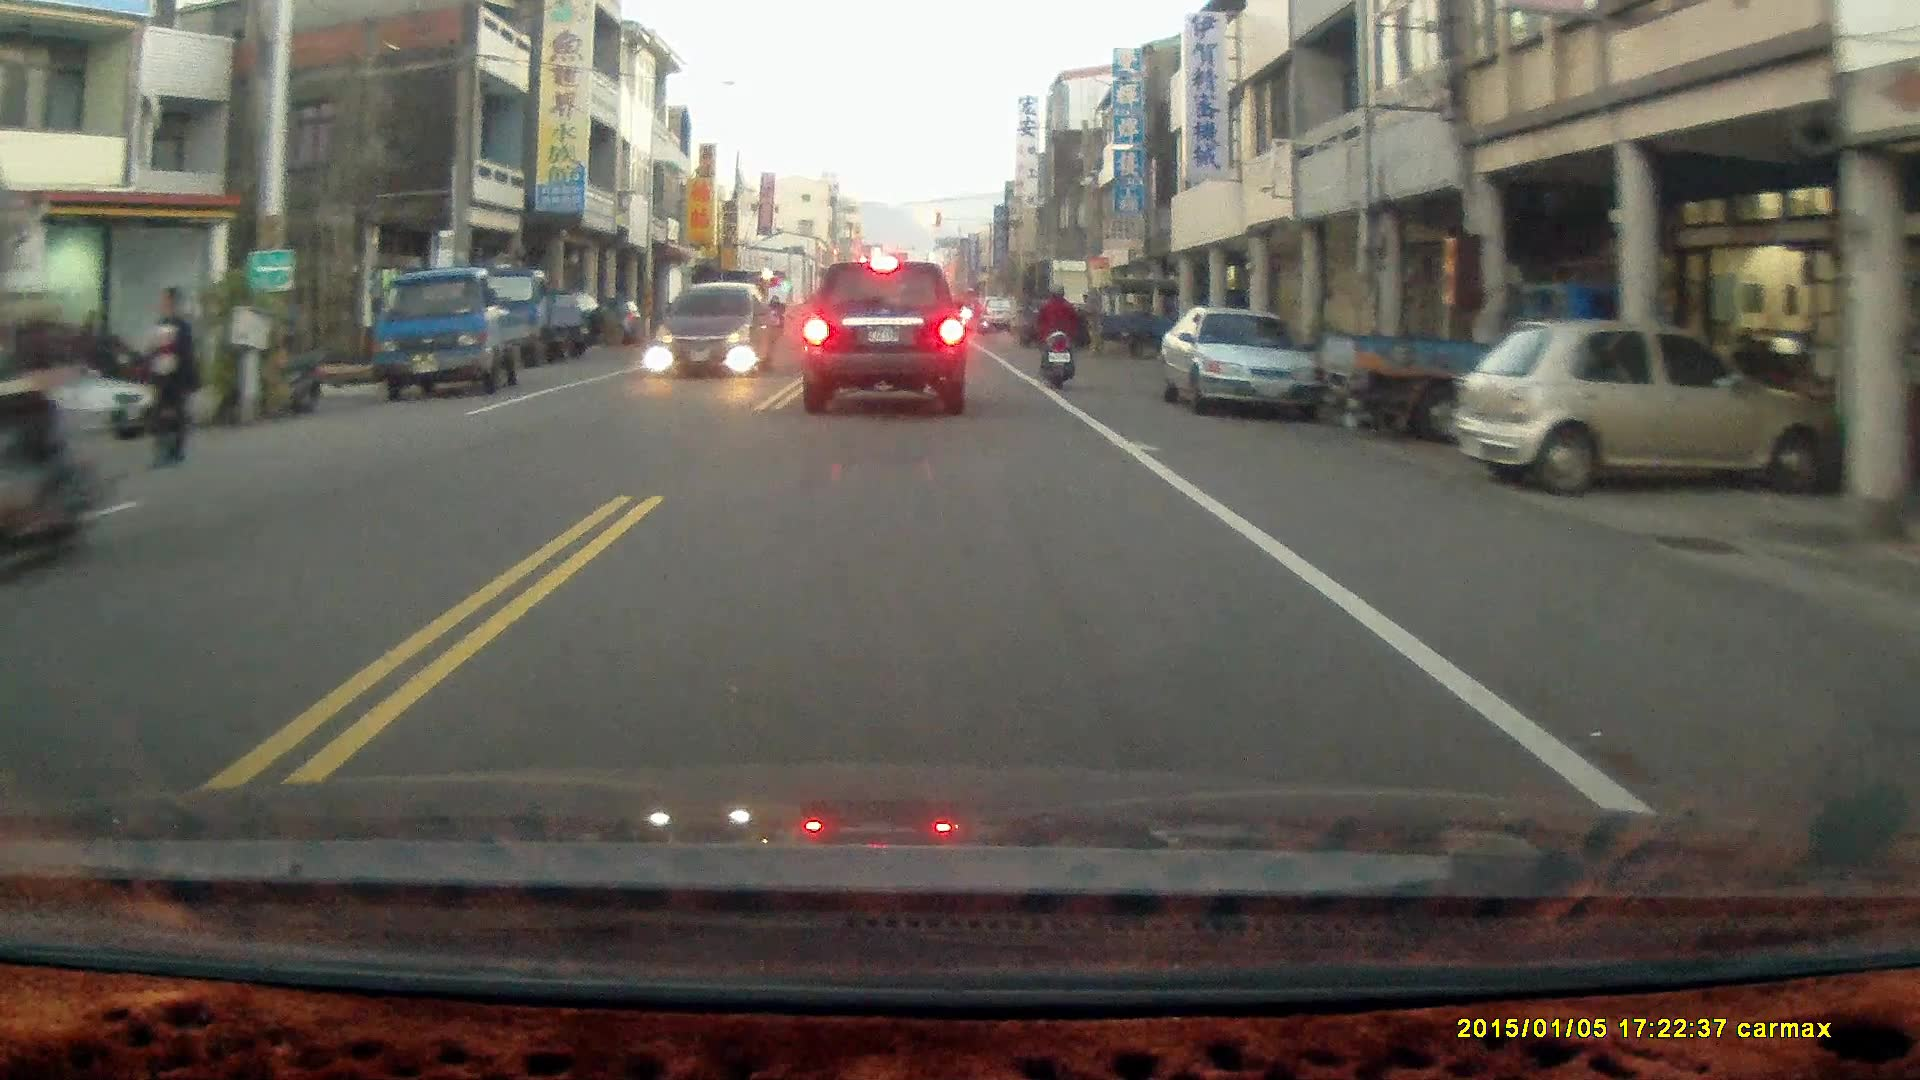pedestrian: (127, 285, 198, 470)
rider: (0, 264, 107, 578), (1034, 281, 1077, 388)
vehicle: (1466, 315, 1815, 500), (796, 254, 970, 417), (374, 265, 543, 399), (1159, 306, 1329, 415), (655, 279, 774, 375)
